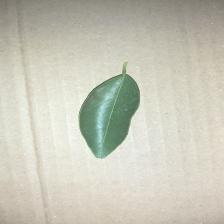healthy: (56, 82, 180, 158)
